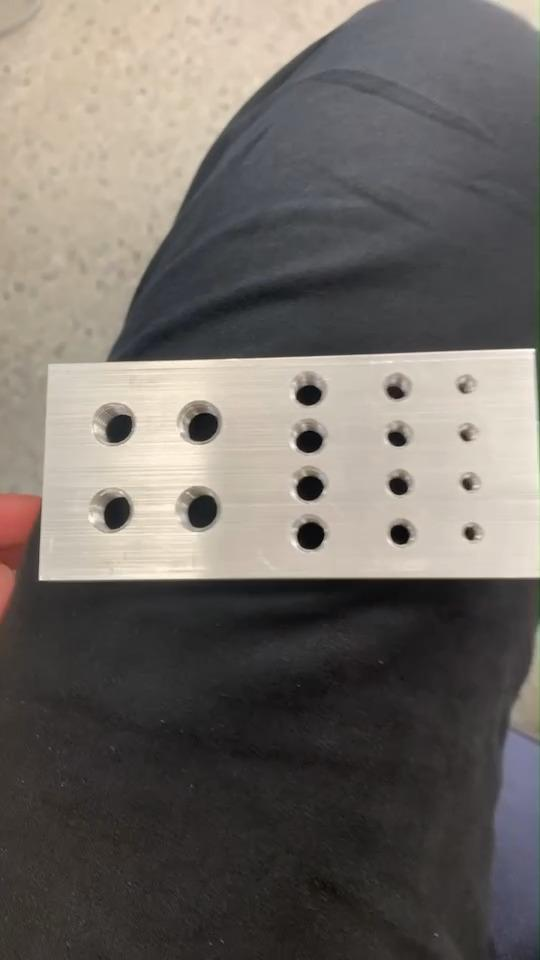hole: (174, 400, 222, 446), (175, 487, 221, 533), (88, 488, 132, 534), (90, 402, 134, 446), (289, 513, 328, 555), (286, 419, 328, 454), (288, 466, 327, 503), (288, 372, 328, 408), (378, 374, 414, 406), (385, 518, 416, 548), (382, 470, 414, 499), (383, 420, 413, 450), (457, 520, 482, 546), (457, 470, 479, 494), (456, 372, 478, 395), (456, 423, 478, 445)
